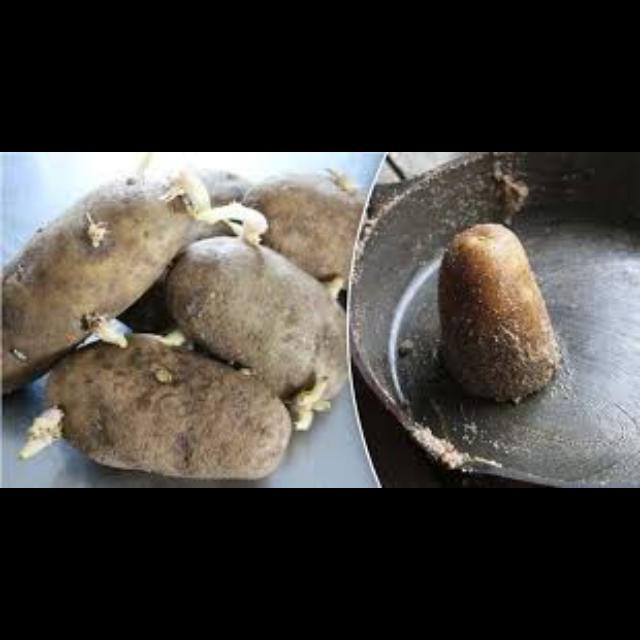Sprouted potato: (2, 165, 210, 402), (9, 324, 293, 480), (166, 206, 357, 424)
